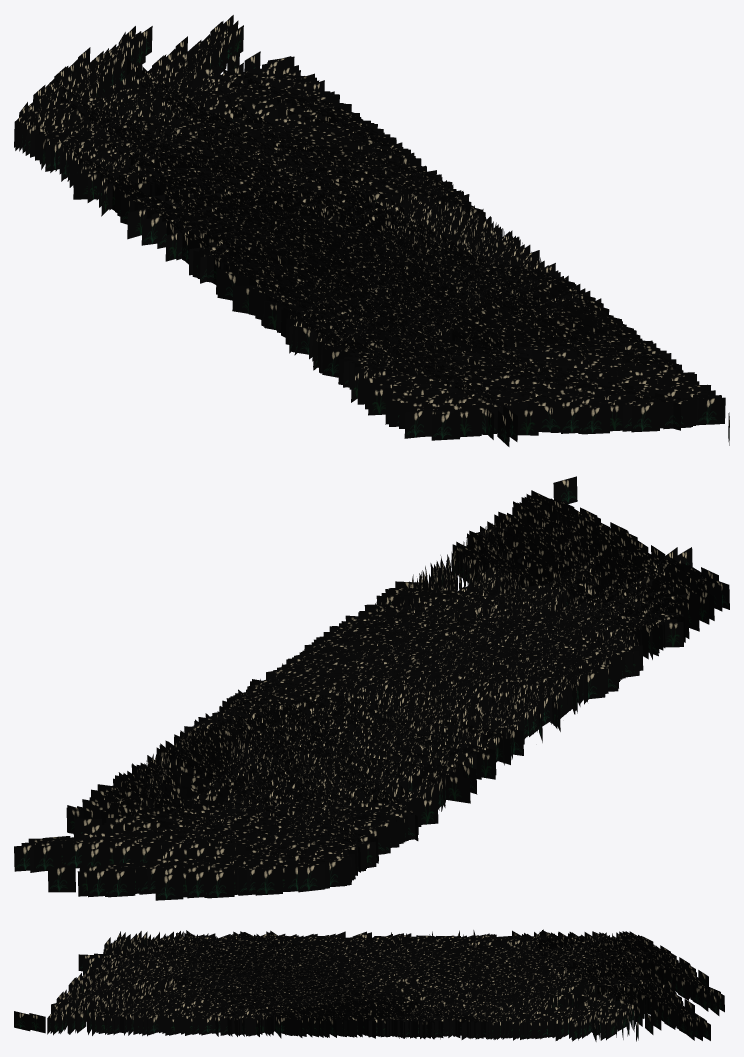
Rendered from すすき真っ直ぐ盛り.fbx.
3 views of the same model, one above another, from view 1: azimuth 30°, elevation 25°; view 2: azimuth 150°, elevation 25°; view 3: azimuth 270°, elevation 25° (orthographic). The views are drawn at different scales.
Visible parts, largest first — view 1: 平面.002; view 2: 平面.002; view 3: 平面.002.
Boxes of the visible parts, bbox=[...] form: 平面.002: bbox=[14, 15, 729, 446]; 平面.002: bbox=[14, 476, 729, 900]; 平面.002: bbox=[14, 929, 724, 1041].
Bounding box in the file's own units: 2351 × 271 × 7713.
Materials: 2 (2 with a texture image).
